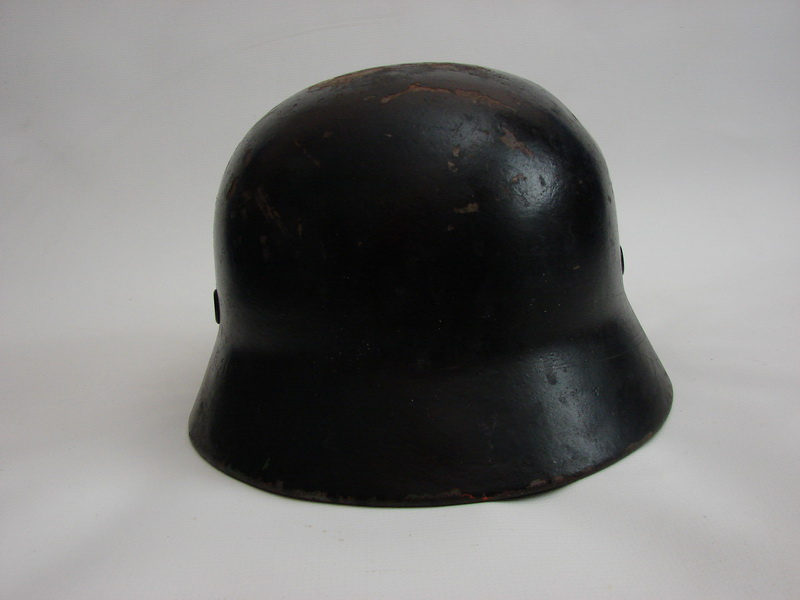with_helmet: (186, 54, 683, 513)
